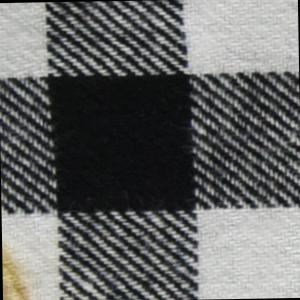Oil Stain: (2, 237, 41, 300)
